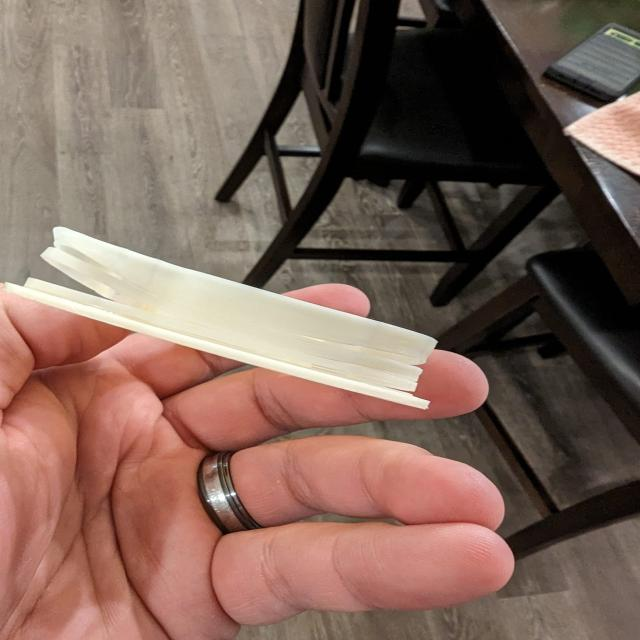Warping: (23, 251, 179, 319), (289, 326, 431, 374), (42, 241, 138, 282), (378, 382, 420, 400)
